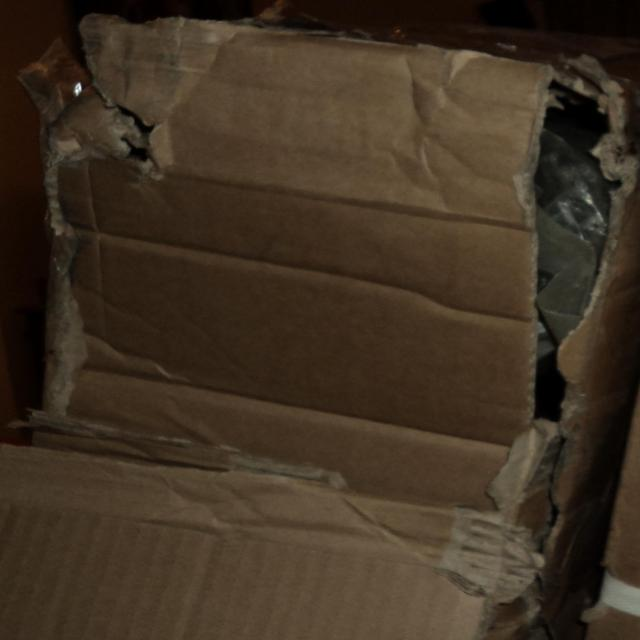damaged: (483, 72, 638, 440), (37, 34, 182, 177)
